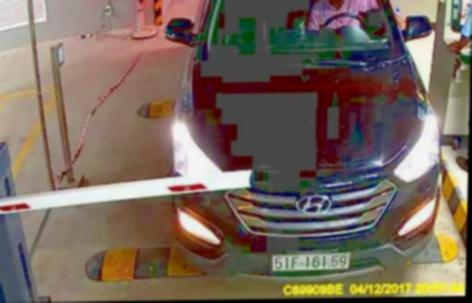License_Plate: (268, 245, 353, 277)
